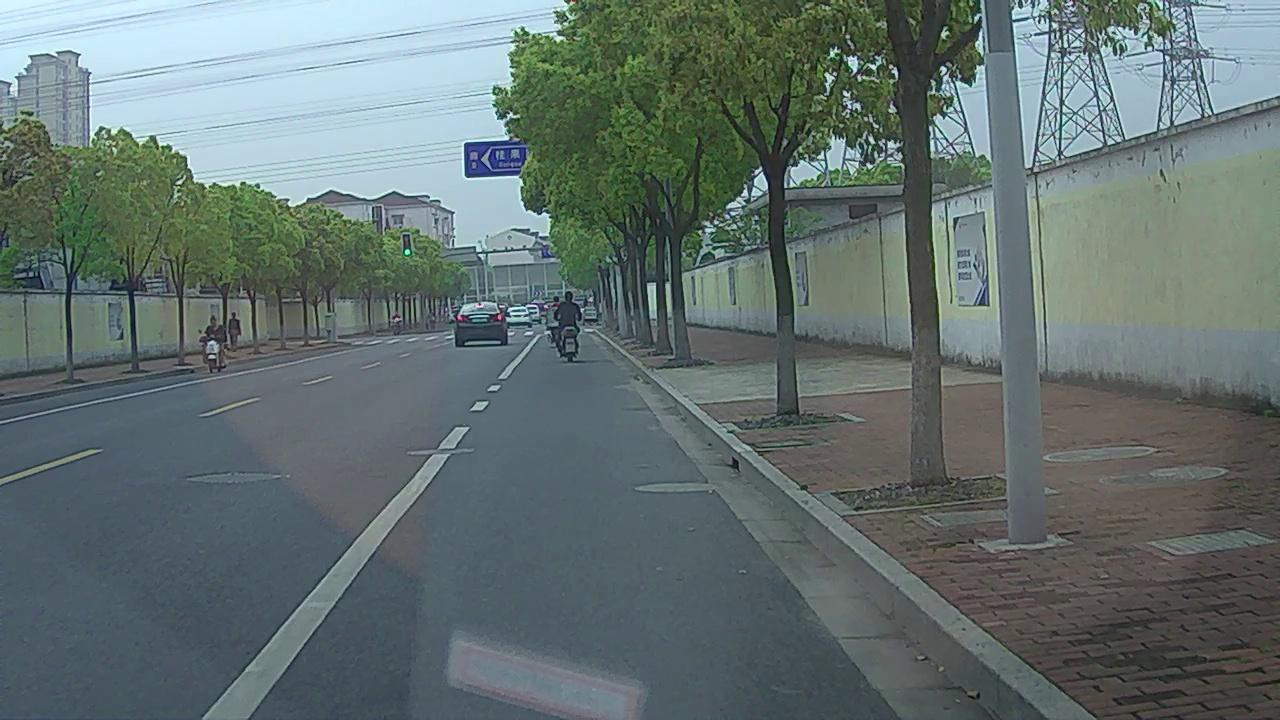traffic_light: (401, 235, 412, 255)
